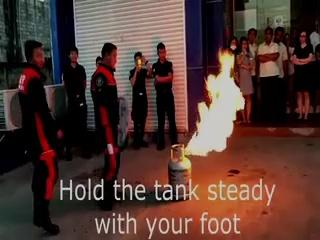Fire: (182, 55, 254, 157)
